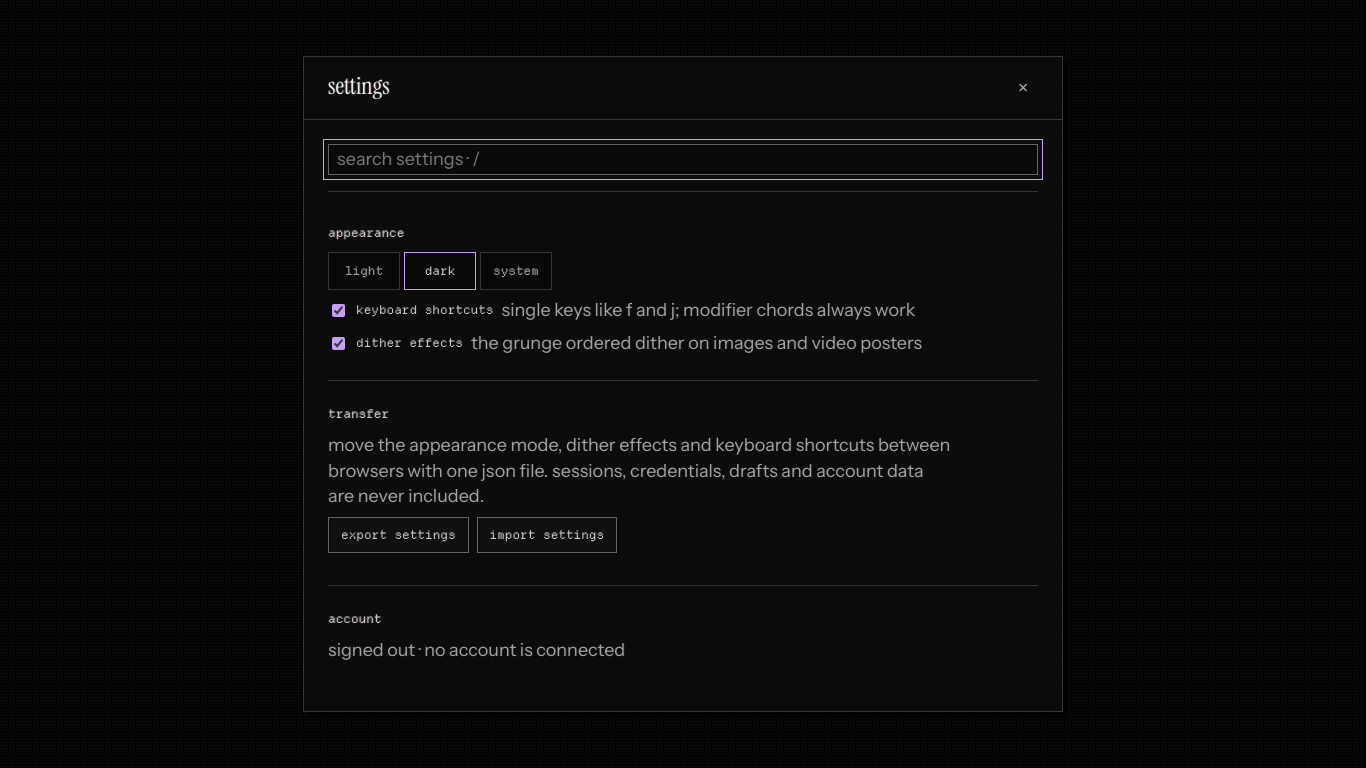
Test: SettingsDialog dither effects setting › writes the toggle through the store and persists it
This screenshot has width=1366, height=768.
Later steps or results of the test are not shown.
Click the checkbox labelled "dither effects" at (338, 344), box [332,337,345,350]
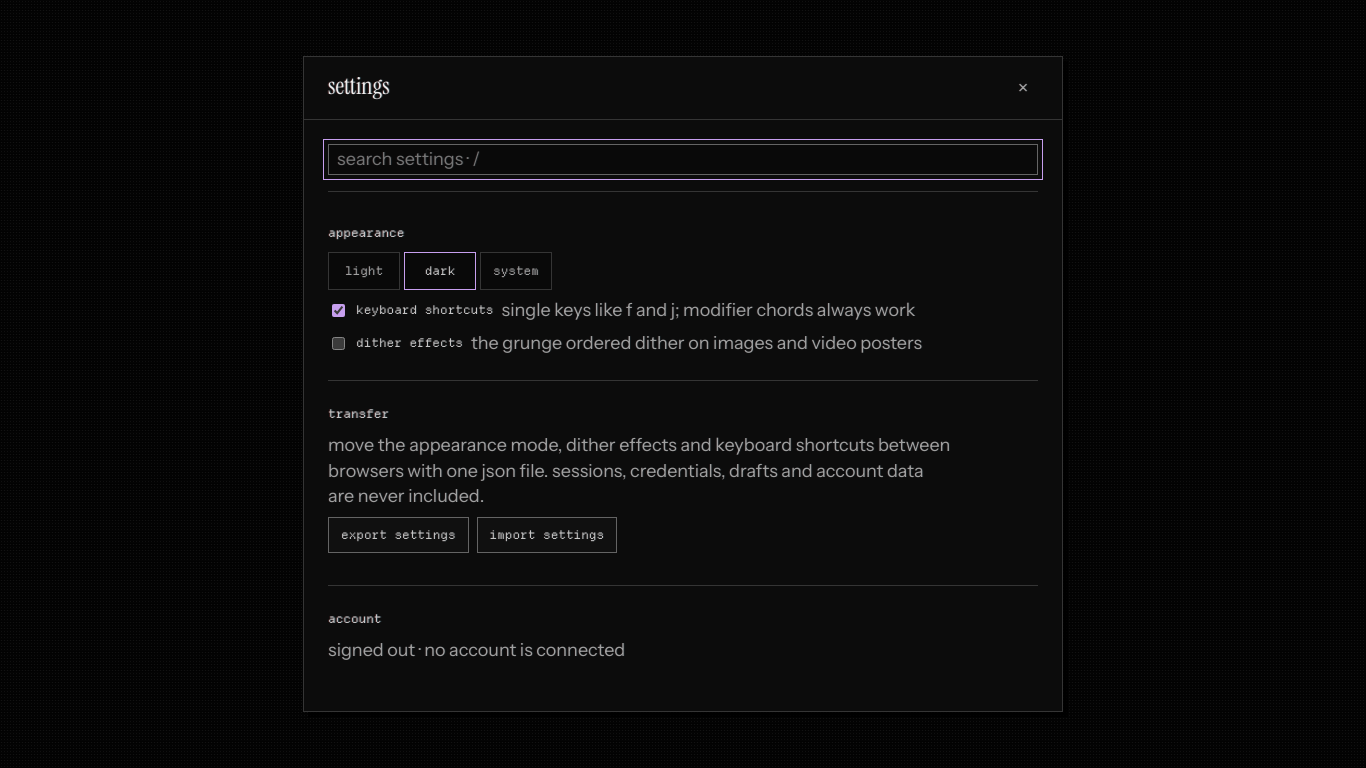
Expected: the button "dark" is shown, [404,252,476,290]
Expected: the checkbox labelled "dither effects" is not checked, [332,337,345,350]
